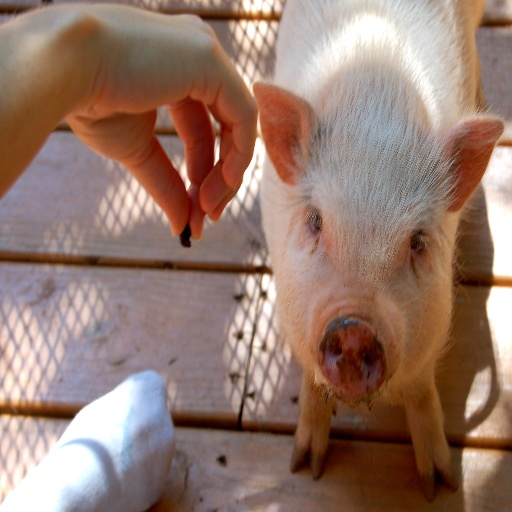hand: (0, 0, 258, 248)
